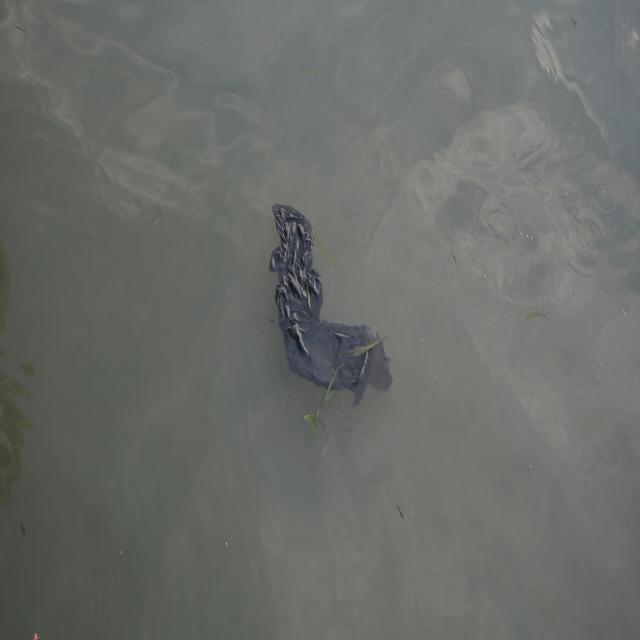Kantong Plastik: (268, 200, 393, 405)
